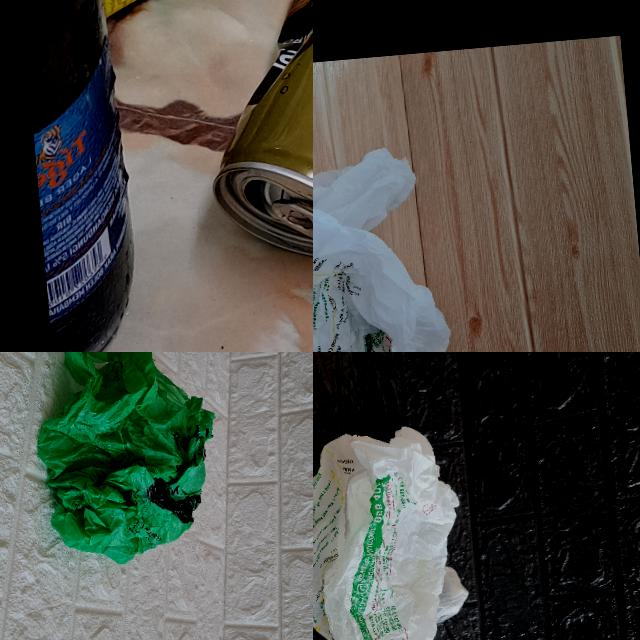aba de lata: (266, 190, 313, 253)
garrafa de vidro: (0, 0, 143, 352)
lata: (185, 0, 313, 273)
sacola plástica: (22, 352, 228, 571), (313, 418, 481, 640), (313, 142, 463, 352)
